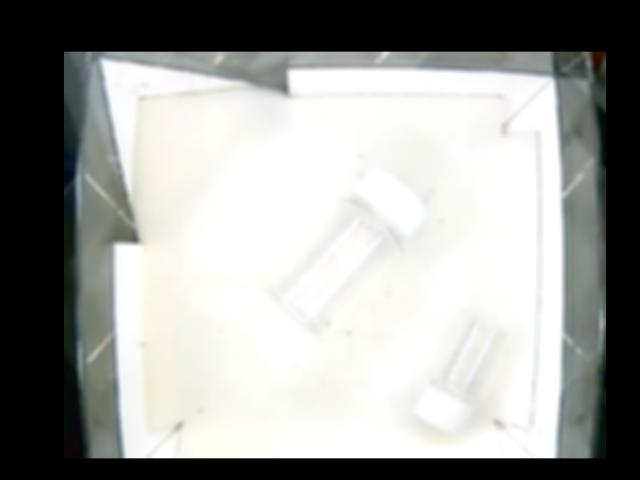Bottle: (268, 168, 425, 334), (401, 317, 513, 434)
